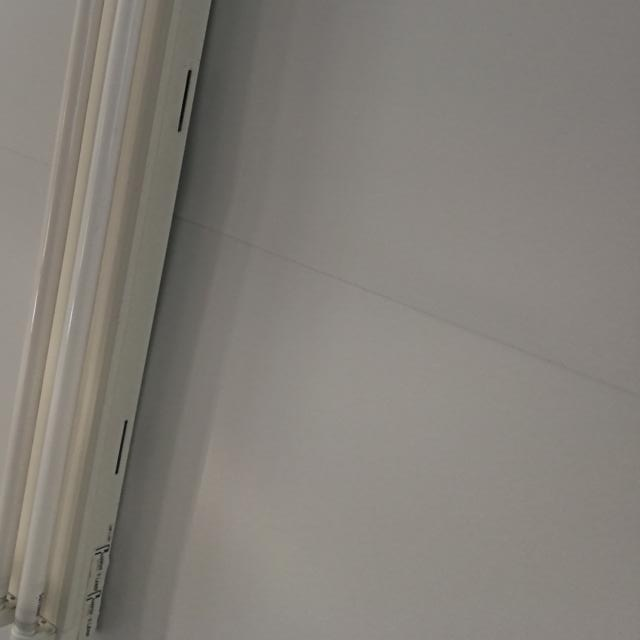fluorescent tube: (0, 0, 339, 640)
